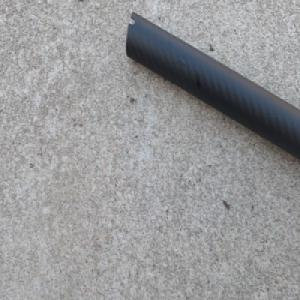LuggagePart: (124, 8, 300, 166)
